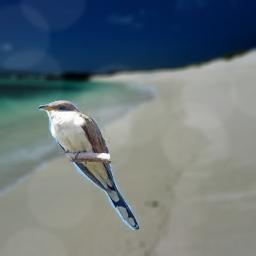Cuckoo: (39, 100, 140, 230)
